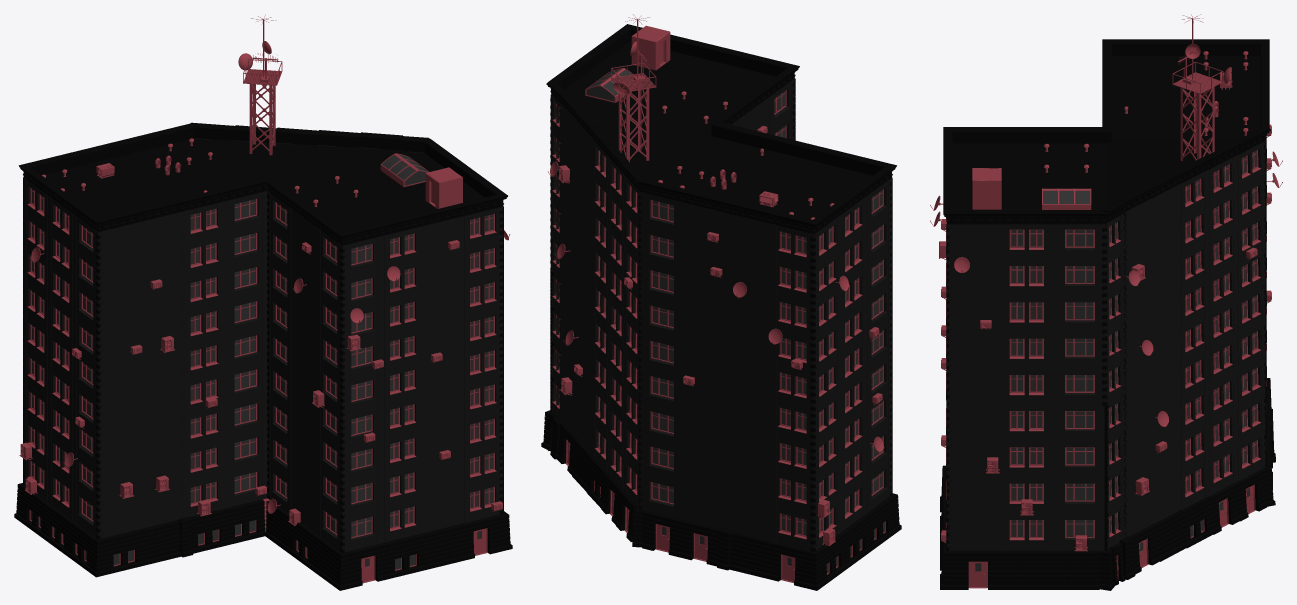
The model's file is Building2.fbx.
3 renders of one model, left to right at view 1: azimuth 30°, elevation 25°; view 2: azimuth 150°, elevation 25°; view 3: azimuth 270°, elevation 25°, orthographic. The views are drawn at different scales.
Parts seen in each view (by area): view 1: Building3; view 2: Building3; view 3: Building3.
Boxes of the visible parts, x1,y1,x2,y2 form: Building3: (14, 14, 512, 590); Building3: (541, 14, 901, 590); Building3: (930, 14, 1282, 590).
Size of the model in its own units: 3289 by 4171 by 2644.
